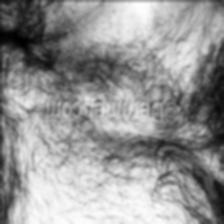Toxin: (91, 120, 148, 163), (148, 4, 184, 55)
